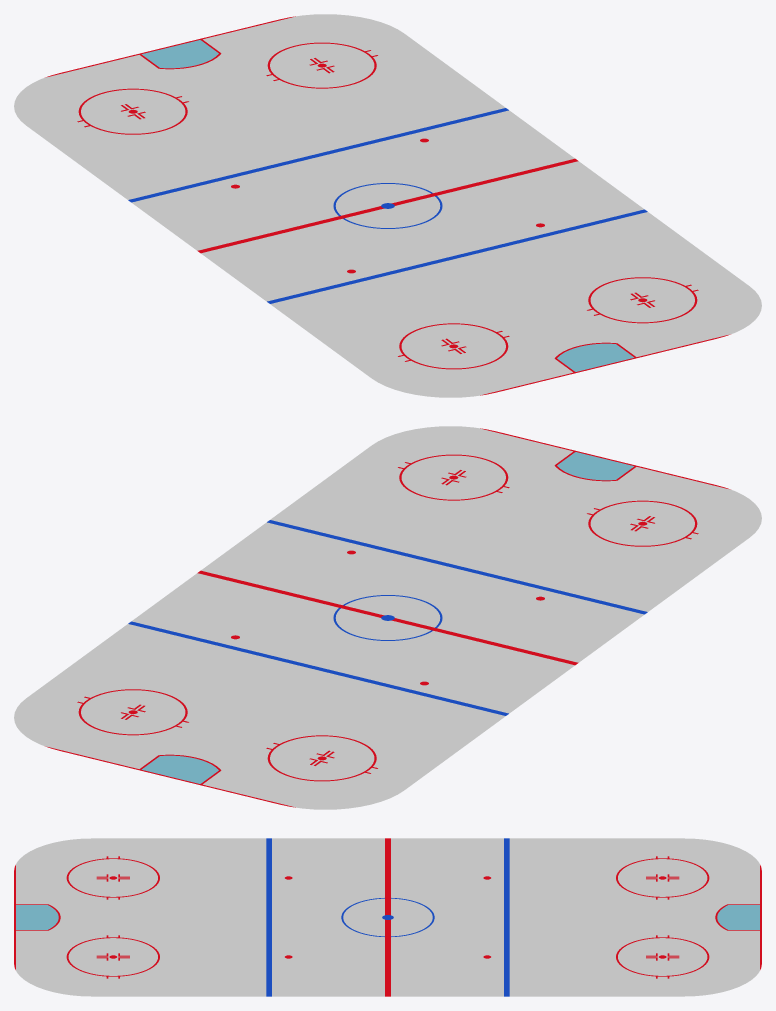
Rendered from airhockey.dae.
3 renders of one model, top to bottom at view 1: azimuth 30°, elevation 25°; view 2: azimuth 150°, elevation 25°; view 3: azimuth 270°, elevation 25°, orthographic. The views are drawn at different scales.
Parts seen in each view (by area): view 1: SketchUp (×18); view 2: SketchUp (×18); view 3: SketchUp (×22).
Boxes of the visible parts, left/top/right/bottom form: SketchUp (×18): left=14, top=14, right=761, bottom=397; SketchUp (×18): left=14, top=426, right=761, bottom=809; SketchUp (×22): left=14, top=838, right=761, bottom=996.
Bounding box in the file's own units: 48 × 96 × 0.
